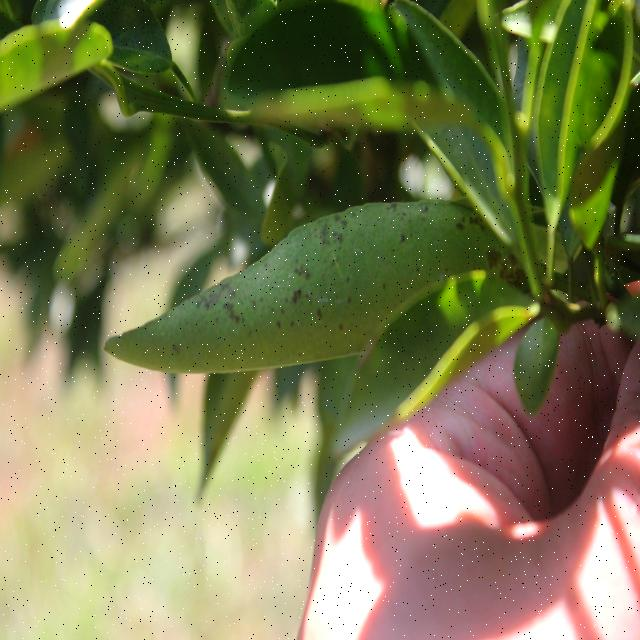melanose: (96, 208, 534, 386)
